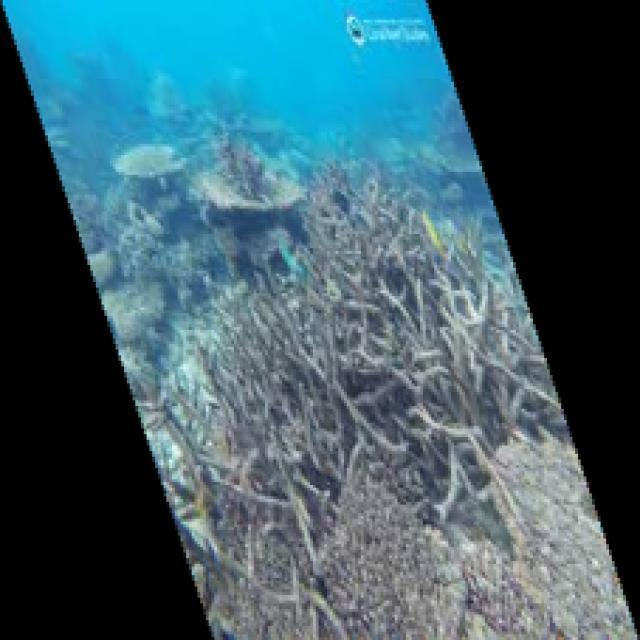Dead Coral: (314, 166, 501, 513), (163, 298, 361, 517), (454, 414, 609, 640), (198, 501, 481, 617), (202, 116, 306, 214)
